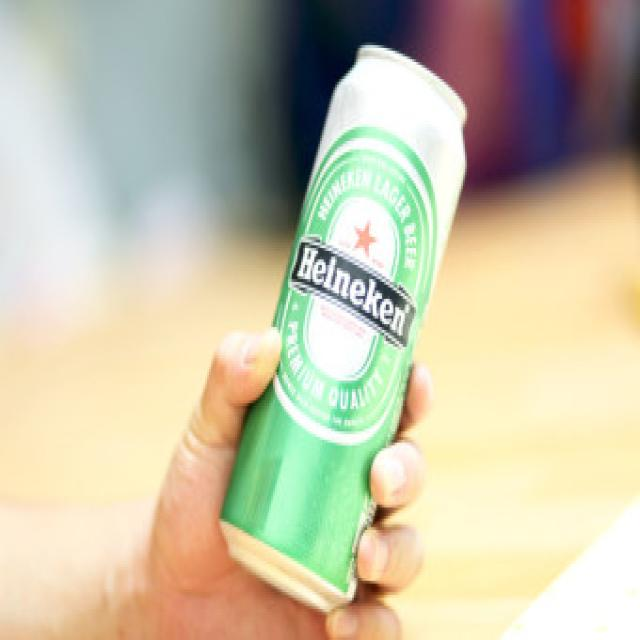can: (216, 40, 471, 617)
